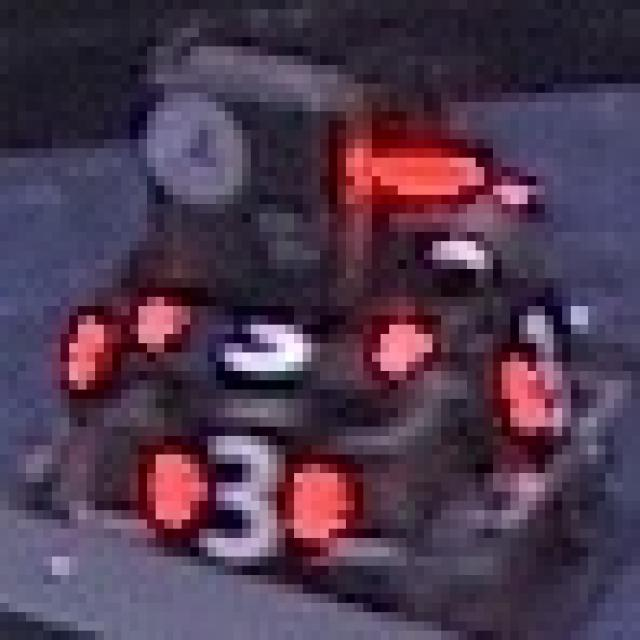R3: (138, 426, 346, 556)
